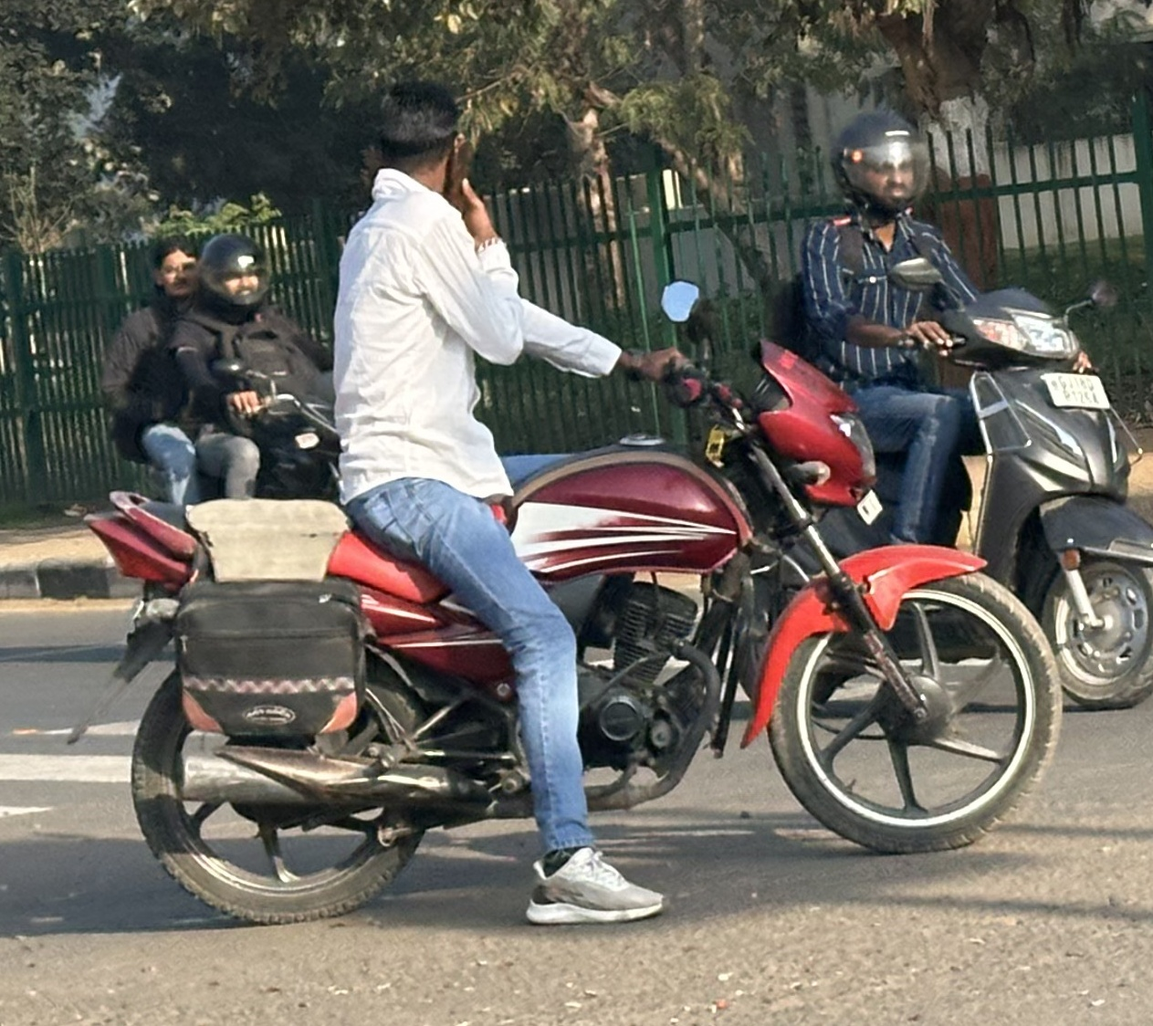BikeWithRider: (41, 59, 1092, 940), (680, 104, 1153, 714), (90, 202, 381, 662)
Helmet: (823, 104, 947, 242), (195, 236, 272, 319)
NoHelmet: (349, 75, 492, 234), (139, 245, 197, 297)
